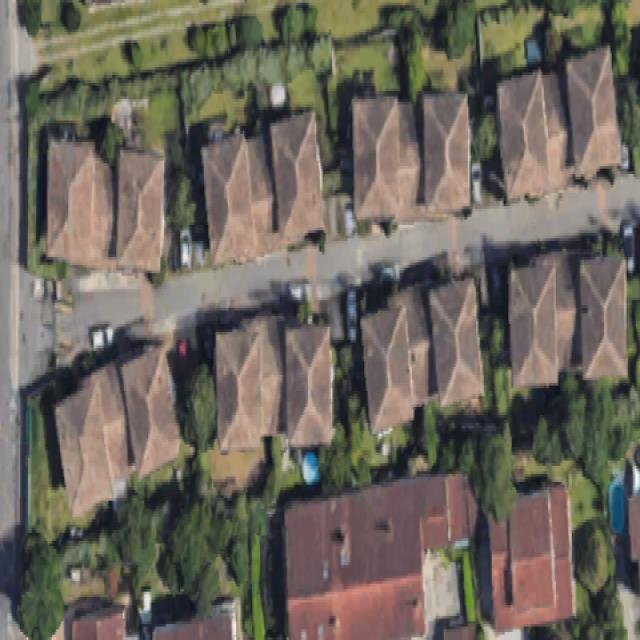maison: (50, 366, 127, 516), (103, 341, 181, 481), (354, 289, 428, 436), (546, 43, 622, 172), (412, 279, 484, 410), (255, 110, 321, 251), (506, 253, 568, 388), (200, 141, 268, 263), (496, 75, 560, 200), (405, 93, 471, 213), (43, 139, 105, 266), (563, 253, 627, 376), (268, 317, 330, 443), (215, 314, 269, 451), (101, 152, 162, 273), (353, 96, 410, 217)
